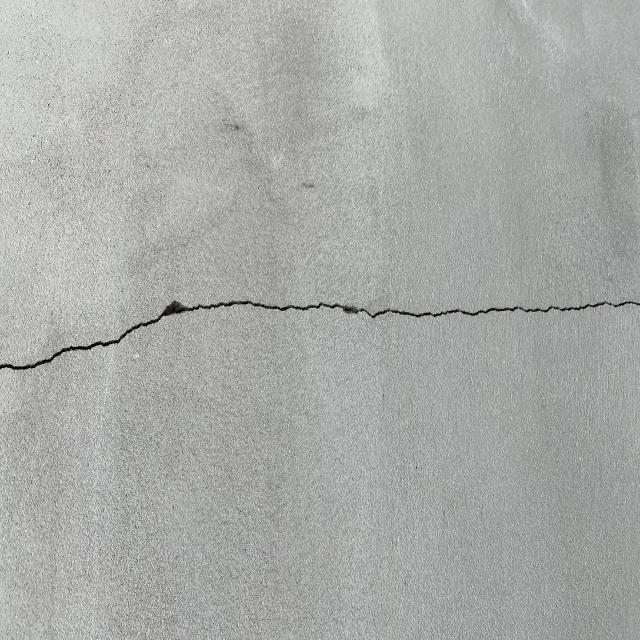GRIETA: (0, 300, 639, 370)
